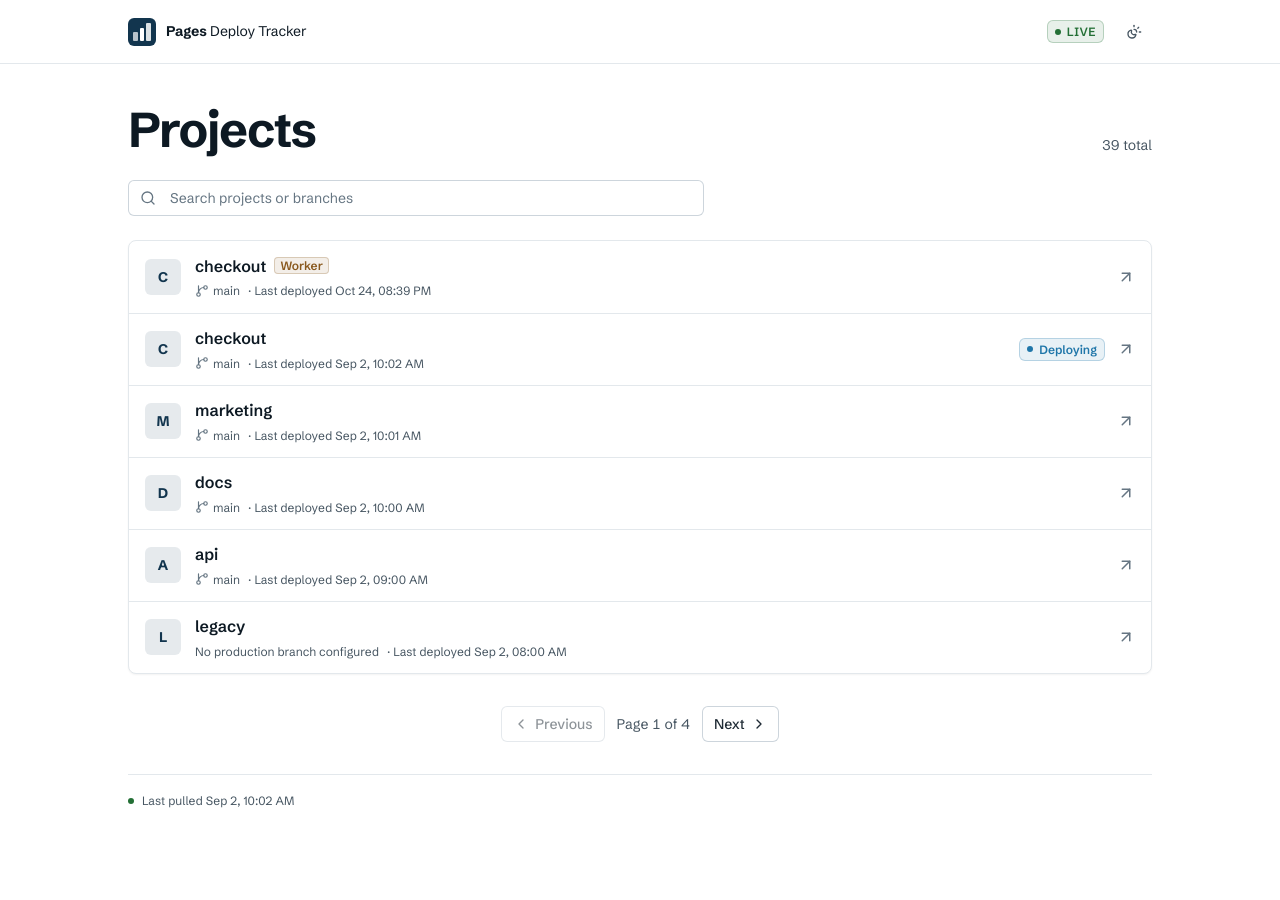
Test: dashboard › lists Workers next to Pages projects and opens their build monitor
The image size is (1280, 900).
Expected: the text "Worker" is shown, [274,257,329,274]
Click the link "C checkout Worker main · Last deployed Oct 24, 08:39 PM" at {"x": 163, "y": 277}, box [145,256,1135,298]
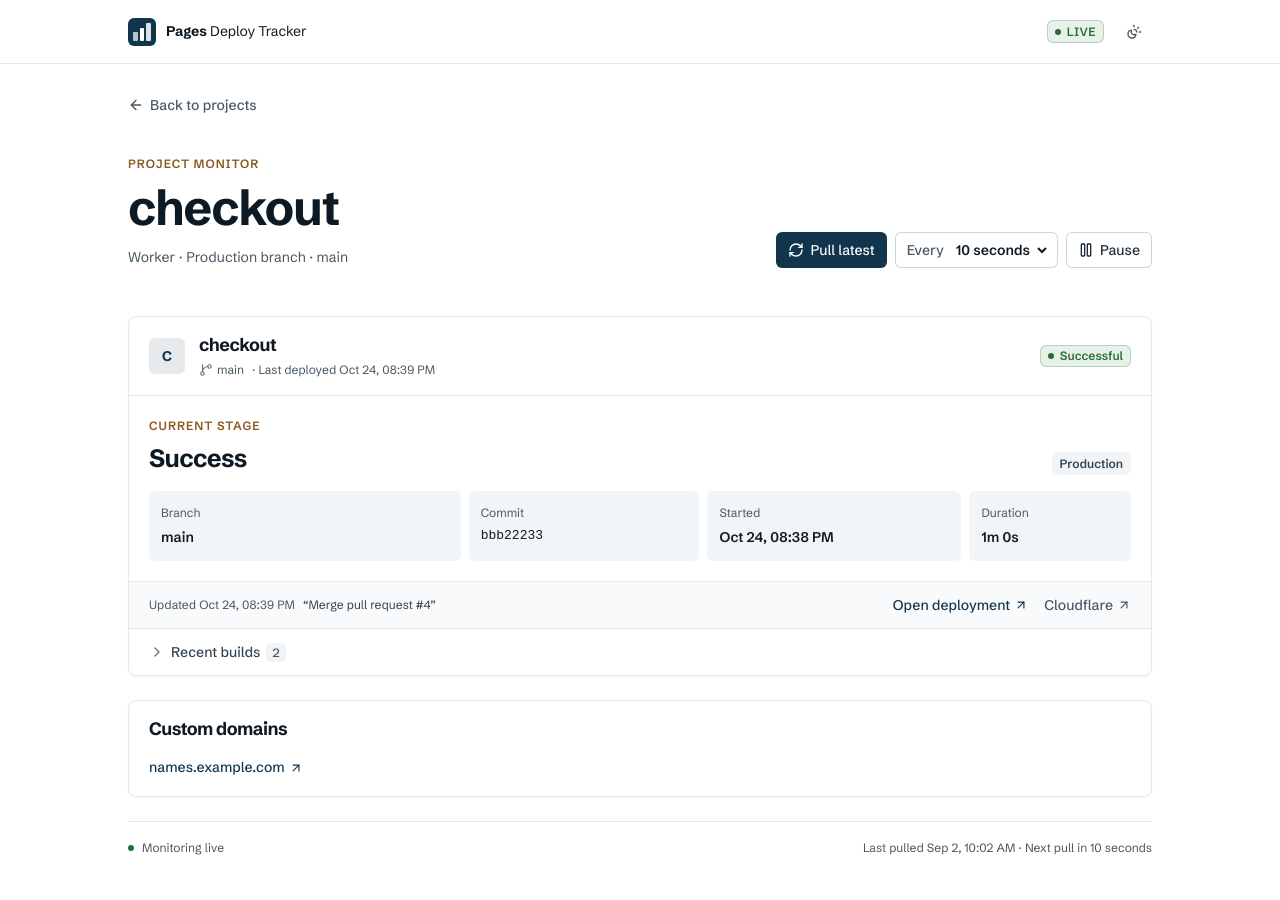
Now the text "Worker · Production branch · main" is shown, box [128,248,348,266]
Now the text "bbb22233" is shown, box [481,528,543,543]
Now the text "“Merge pull request #4”" is shown, box [303,595,436,614]
